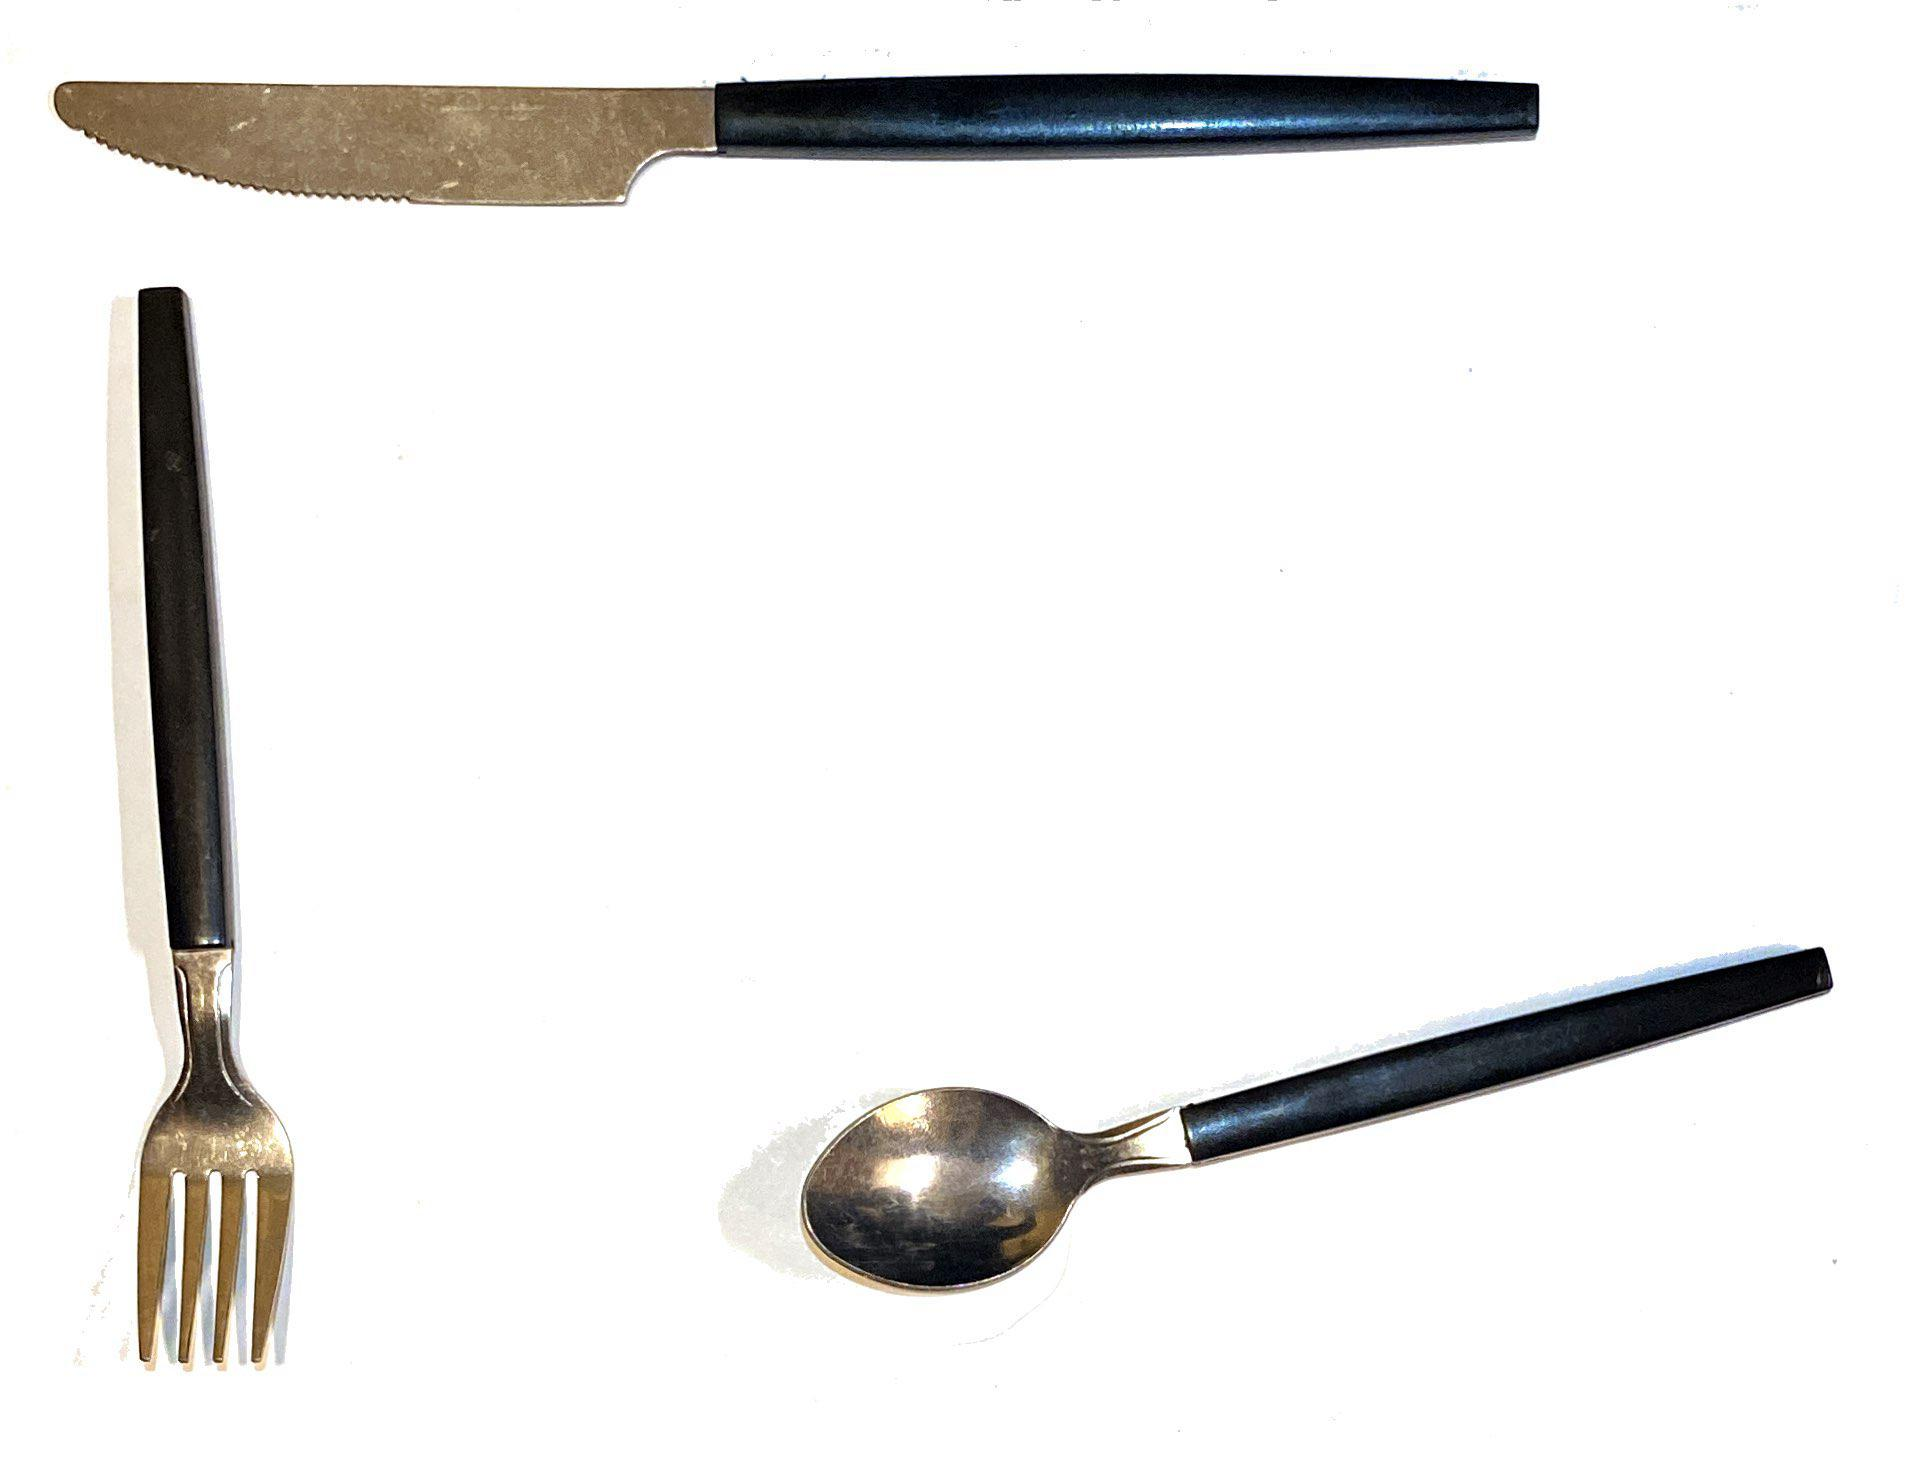Fork: (89, 285, 354, 1420)
Knife: (25, 57, 1604, 232)
Spoon: (791, 909, 1835, 1345)
